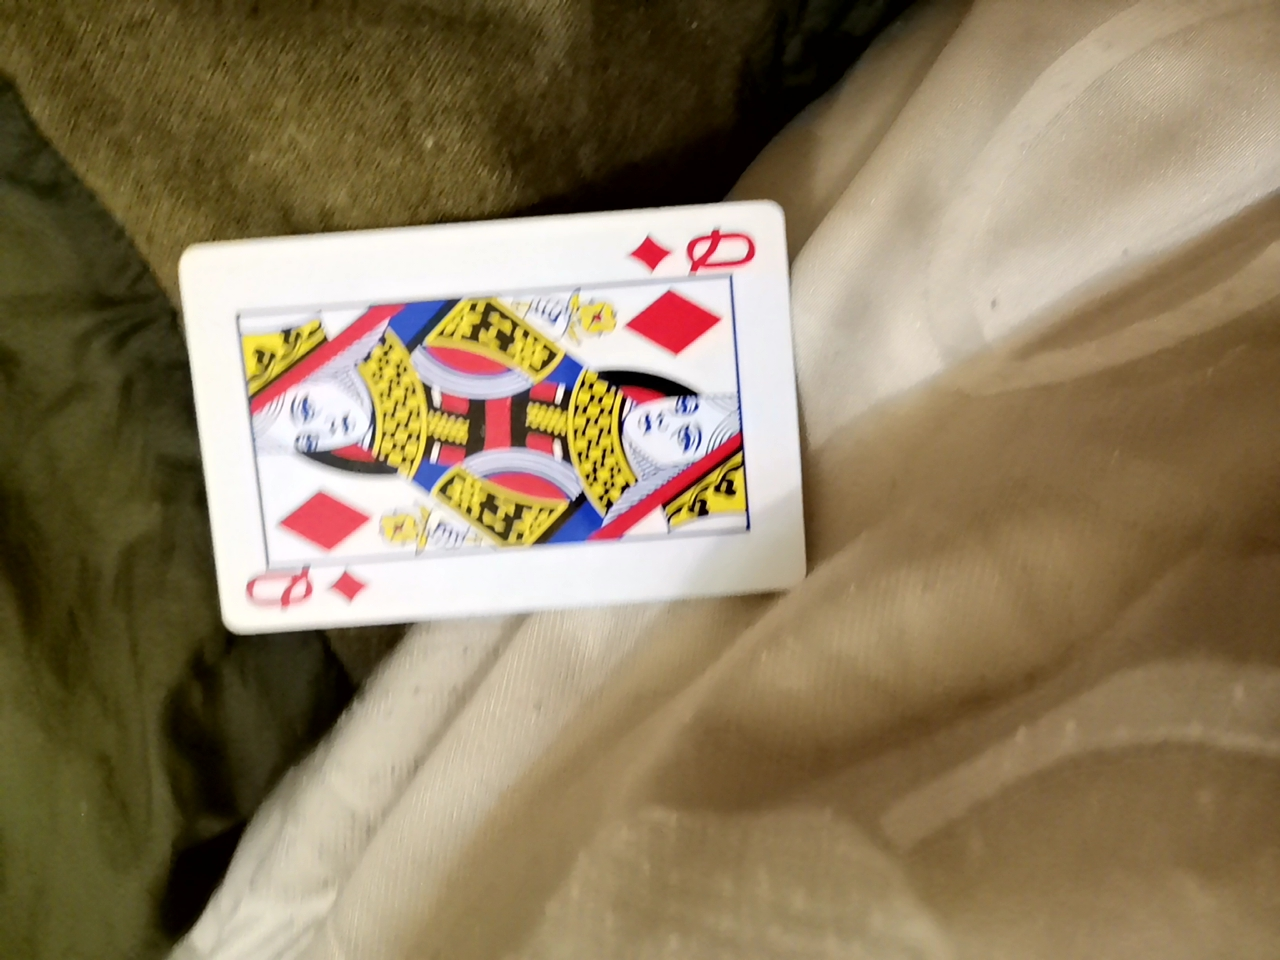fk q: (175, 231, 794, 675)
